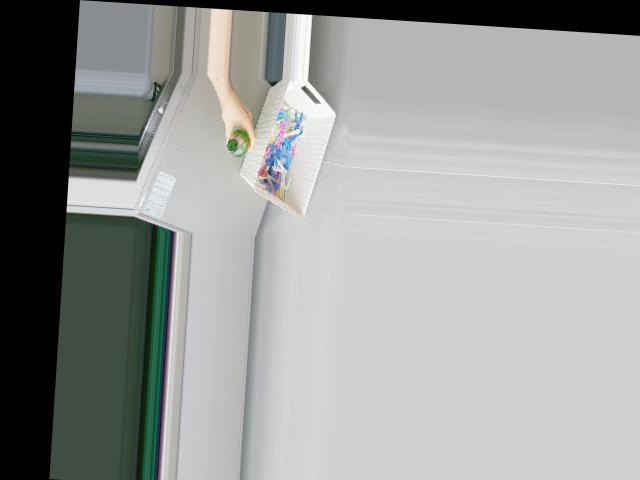beer: (225, 127, 250, 158)
